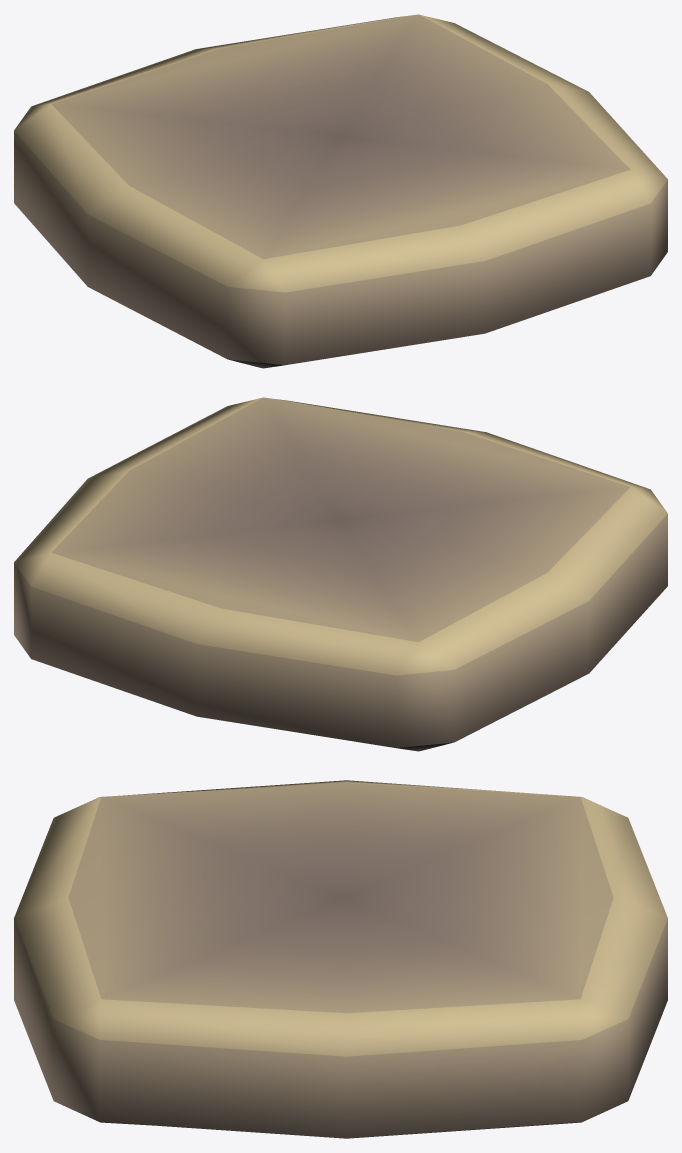
The model's file is wax_spill_1_LOD_setup.fbx.
3 views of the same model, one above another, from view 1: azimuth 30°, elevation 25°; view 2: azimuth 150°, elevation 25°; view 3: azimuth 270°, elevation 25° (orthographic). The views are drawn at different scales.
Visible parts, largest first — view 1: wax_spill_1_LOD0; view 2: wax_spill_1_LOD0; view 3: wax_spill_1_LOD0.
Boxes of the visible parts, x1,y1,x2,y2 form: wax_spill_1_LOD0: (14,14,667,368); wax_spill_1_LOD0: (14,397,667,751); wax_spill_1_LOD0: (14,780,667,1138).
Size of what is drawn, in the model's own units: 57.99 by 12.02 by 57.99.
